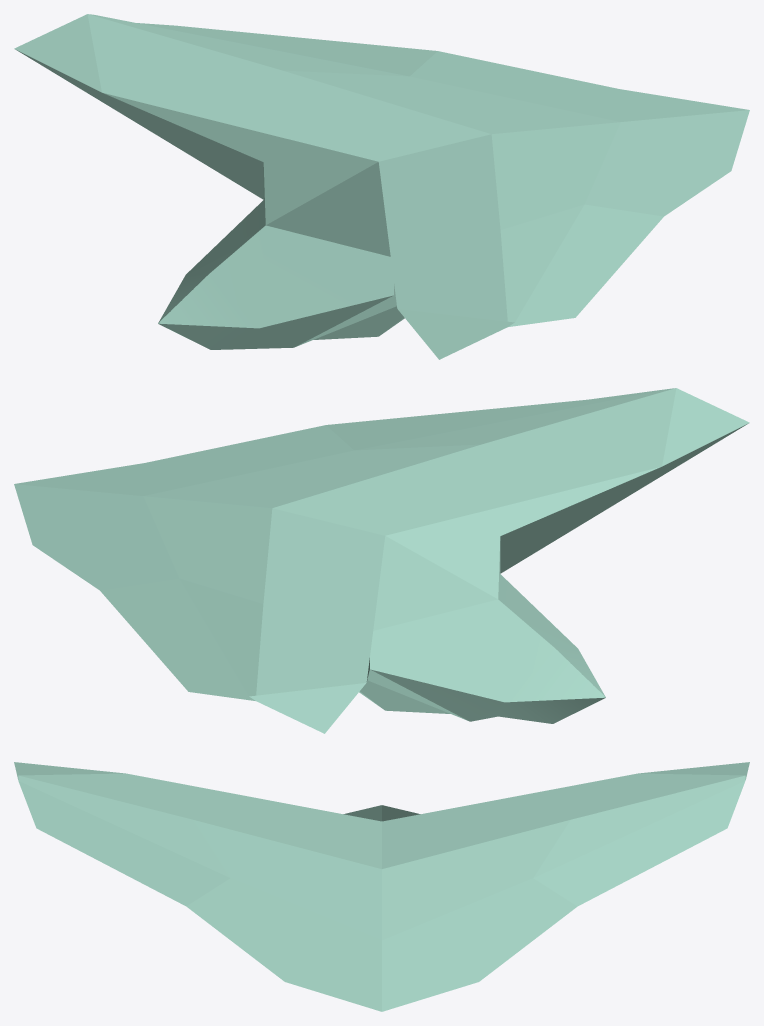
File: bird.fbx
The picture shows the model from 3 angles, top to bottom: view 1: azimuth 30°, elevation 25°; view 2: azimuth 150°, elevation 25°; view 3: azimuth 270°, elevation 25°; orthographic projection. The views are drawn at different scales.
Parts seen in each view (by area): view 1: pCube7; view 2: pCube7; view 3: pCube7.
Boxes of the visible parts, x1,y1,x2,y2 form: pCube7: (14,14,749,359); pCube7: (14,388,749,733); pCube7: (14,762,749,1011).
Size of the model in its own units: 2.62 by 0.7981 by 3.26.
